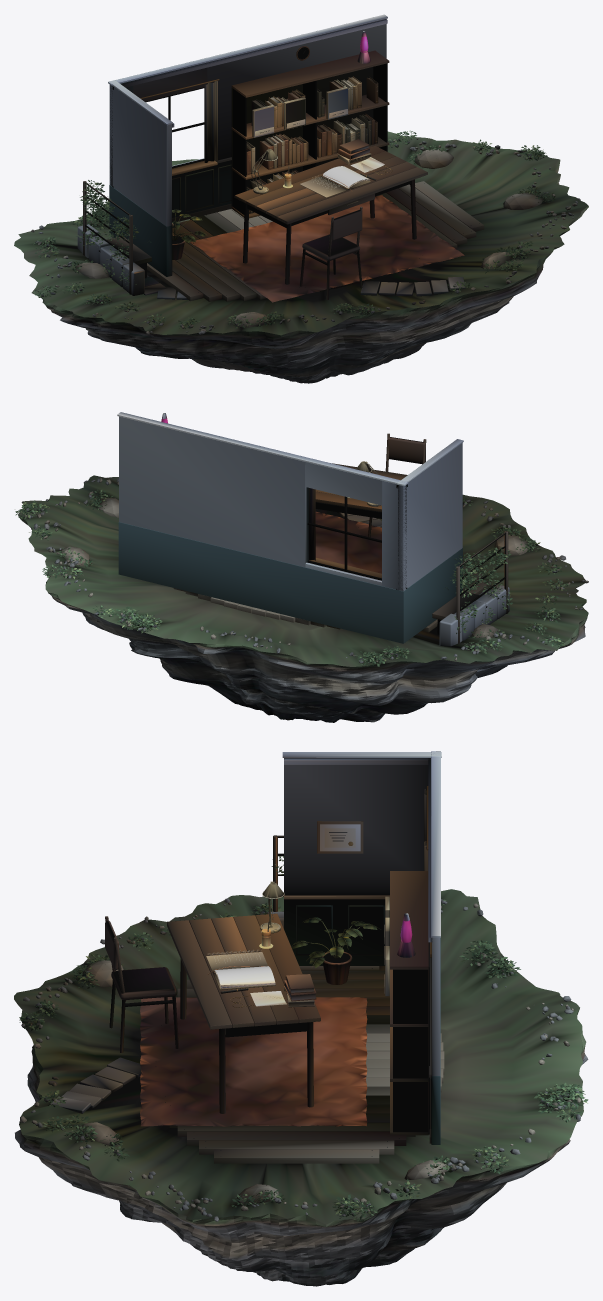
The model's file is flight-writing-43cc321a.glb.
3 renders of one model, top to bottom at view 1: azimuth 30°, elevation 25°; view 2: azimuth 150°, elevation 25°; view 3: azimuth 270°, elevation 25°, orthographic. The views are drawn at different scales.
Parts seen in each view (by area): view 1: Writing island · flight.001; view 2: Writing island · flight.001; view 3: Writing island · flight.001.
Part boxes in pixels (x1,y1,x2,y2): Writing island · flight.001: (14, 14, 588, 383); Writing island · flight.001: (15, 412, 588, 722); Writing island · flight.001: (14, 751, 588, 1286).
Bounding box in the file's own units: 11.74 × 6.45 × 8.16.
